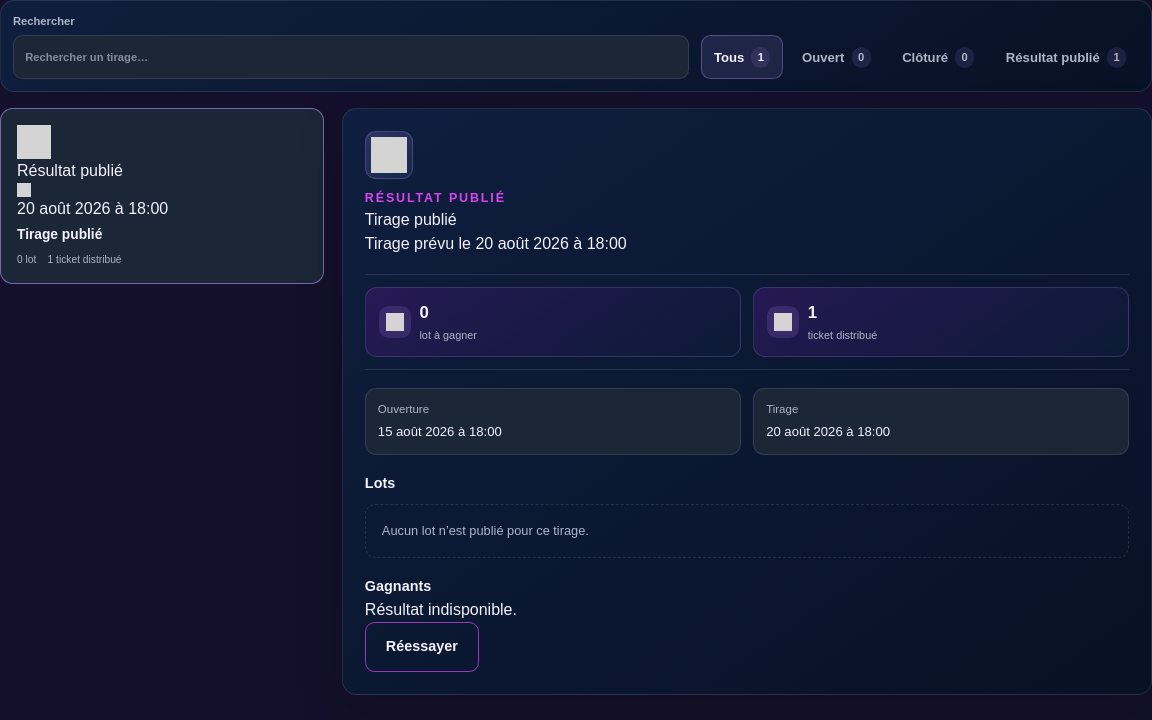
ListeTirages › isole une erreur de résultat et permet de relancer ce résultat
Expected: the text "Résultat indisponible." is shown, left=365, top=601, right=517, bottom=618
Click the button "Réessayer" at (422, 647), box left=365, top=622, right=479, bottom=672
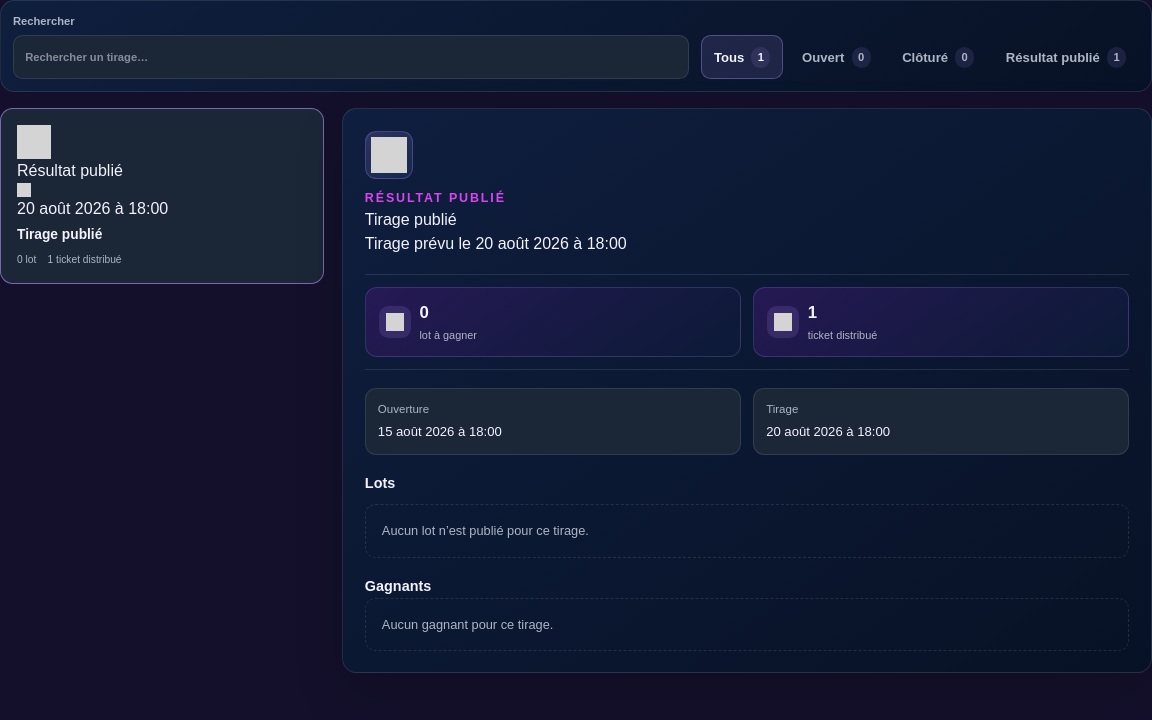
Expected: the text "Aucun gagnant pour ce tirage." is shown, left=365, top=598, right=1129, bottom=651
